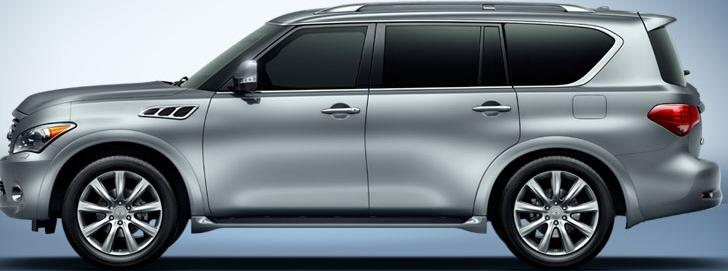backlight: (645, 96, 705, 139)
headlight: (10, 116, 79, 160)
side_glass: (215, 15, 623, 95)
